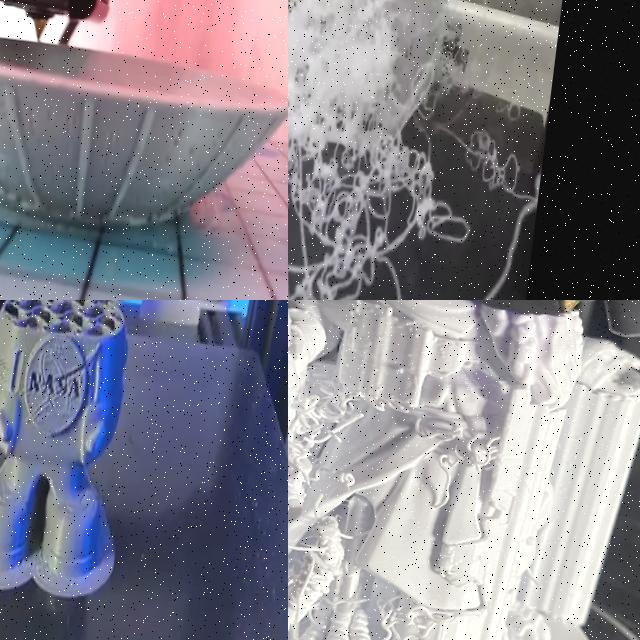spaghetti: (288, 0, 570, 300), (288, 320, 440, 640)
